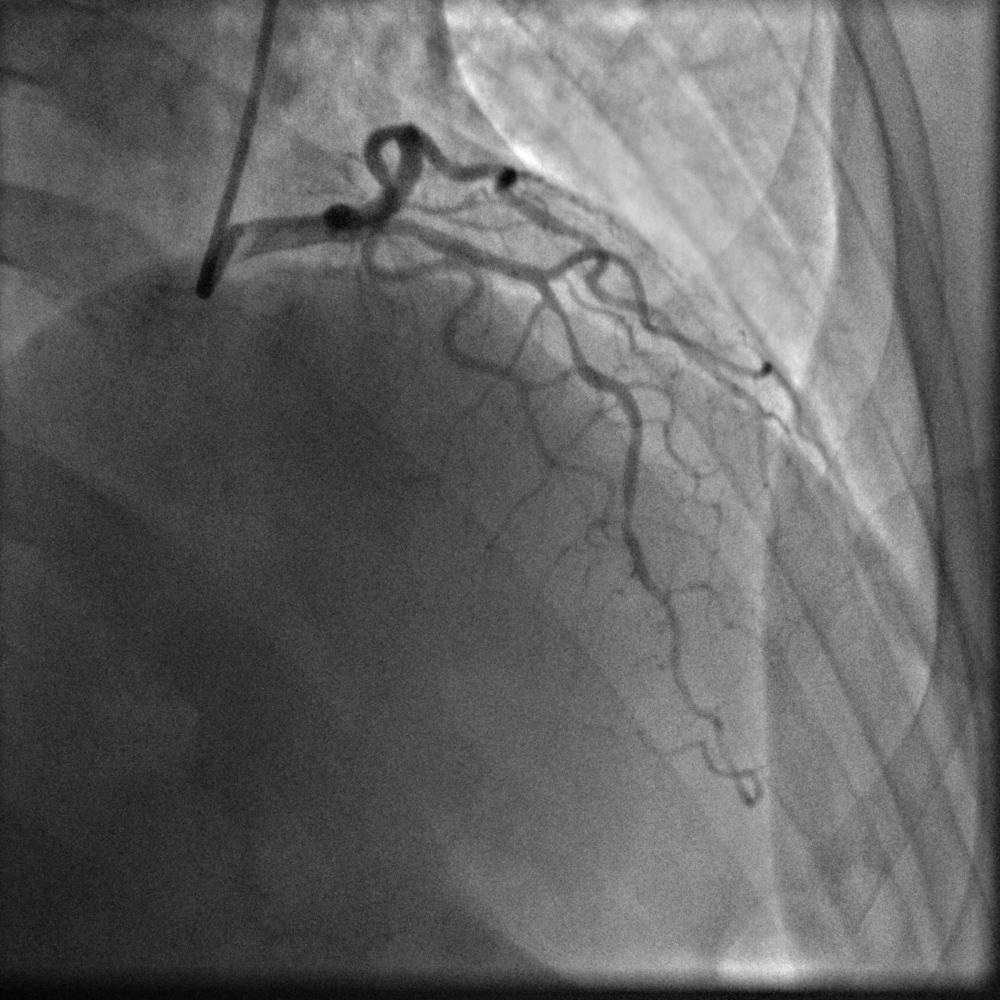Stenosis: (547, 300, 584, 356)
